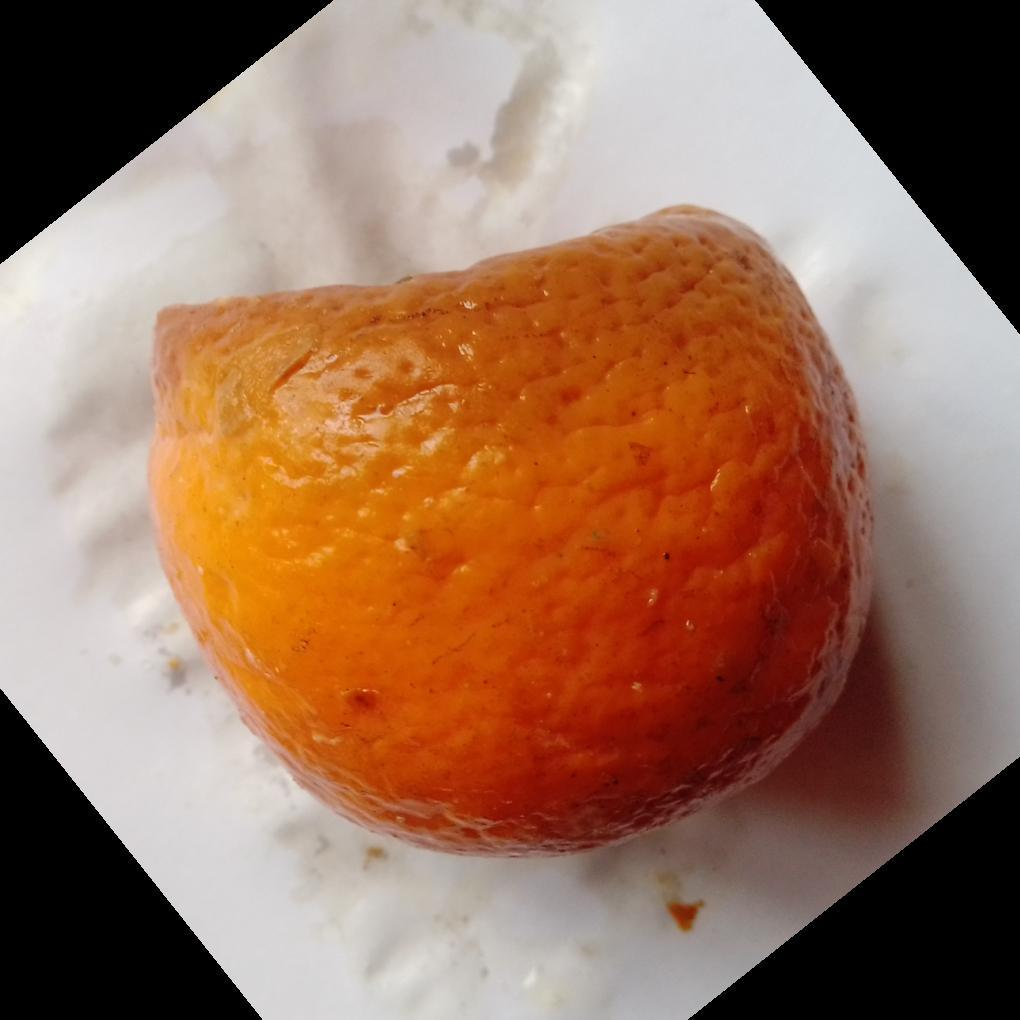FreshOrange: (146, 205, 875, 859)
